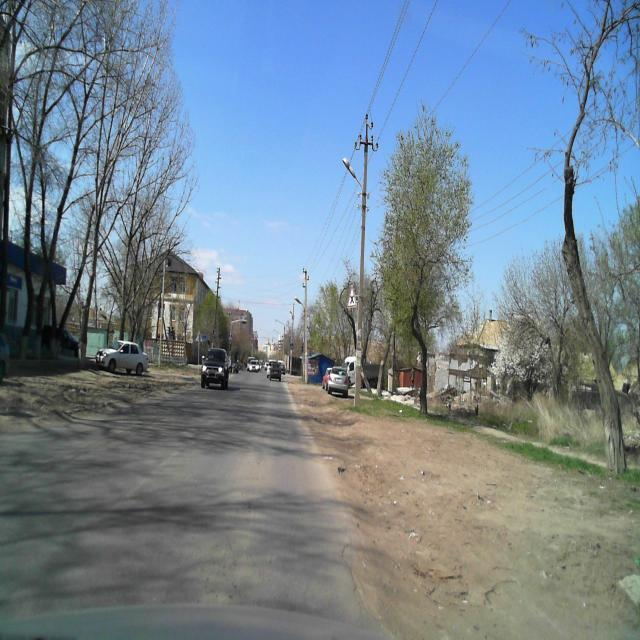road sign: (347, 284, 357, 308)
